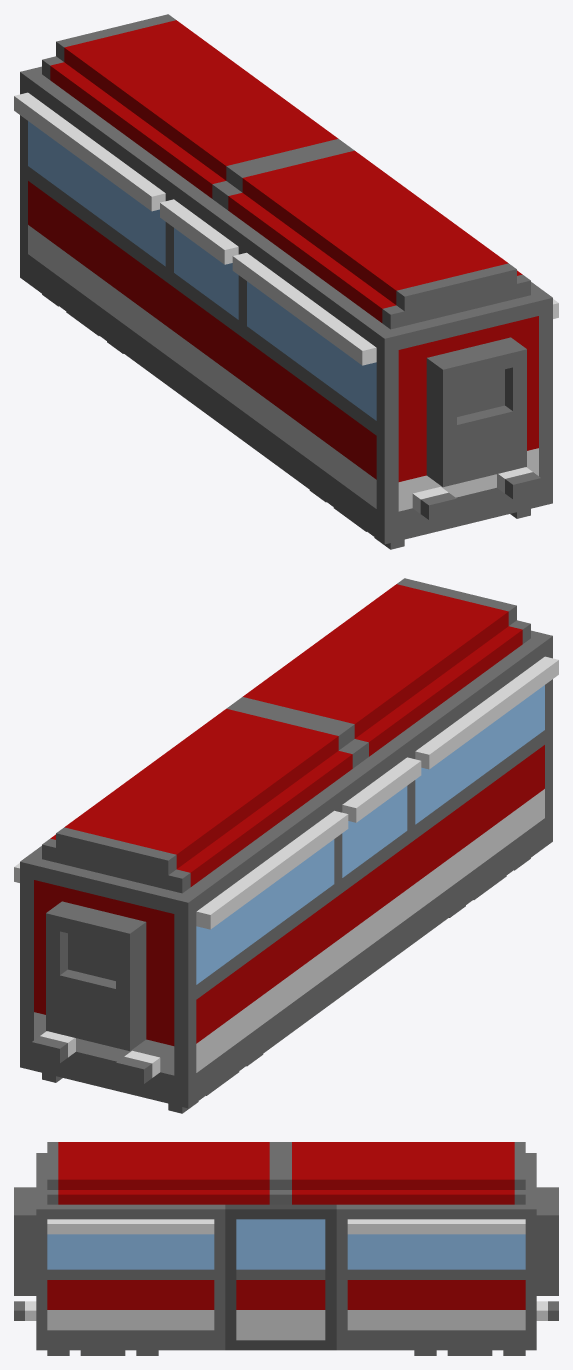
File: veh_train.obj
3 renders of one model, top to bottom at view 1: azimuth 30°, elevation 25°; view 2: azimuth 150°, elevation 25°; view 3: azimuth 270°, elevation 25°, orthographic. The views are drawn at different scales.
Size of the model in its own units: 1.4 by 1.7 by 4.9.
Materials: 1 (1 with a texture image).
